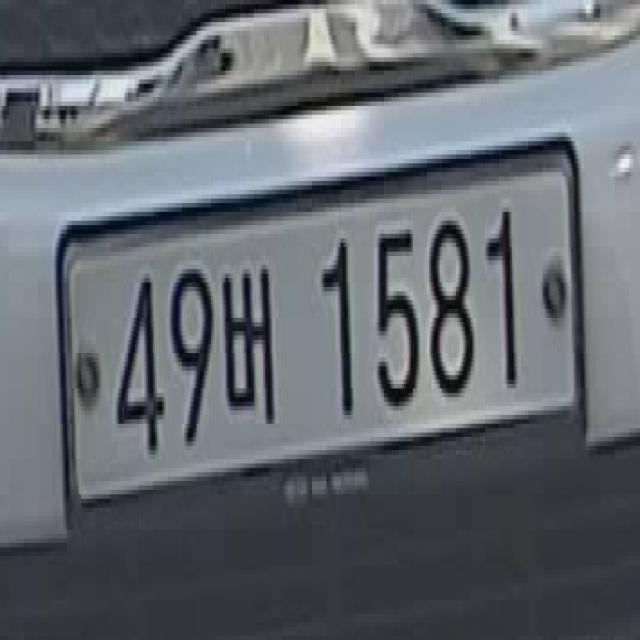1: (485, 198, 519, 403), (320, 228, 352, 431)
4: (114, 258, 164, 468)
5: (372, 210, 419, 418)
8: (428, 200, 476, 406)
9: (169, 249, 216, 455)
beo: (220, 247, 278, 443)
license_plate: (36, 119, 607, 558)
